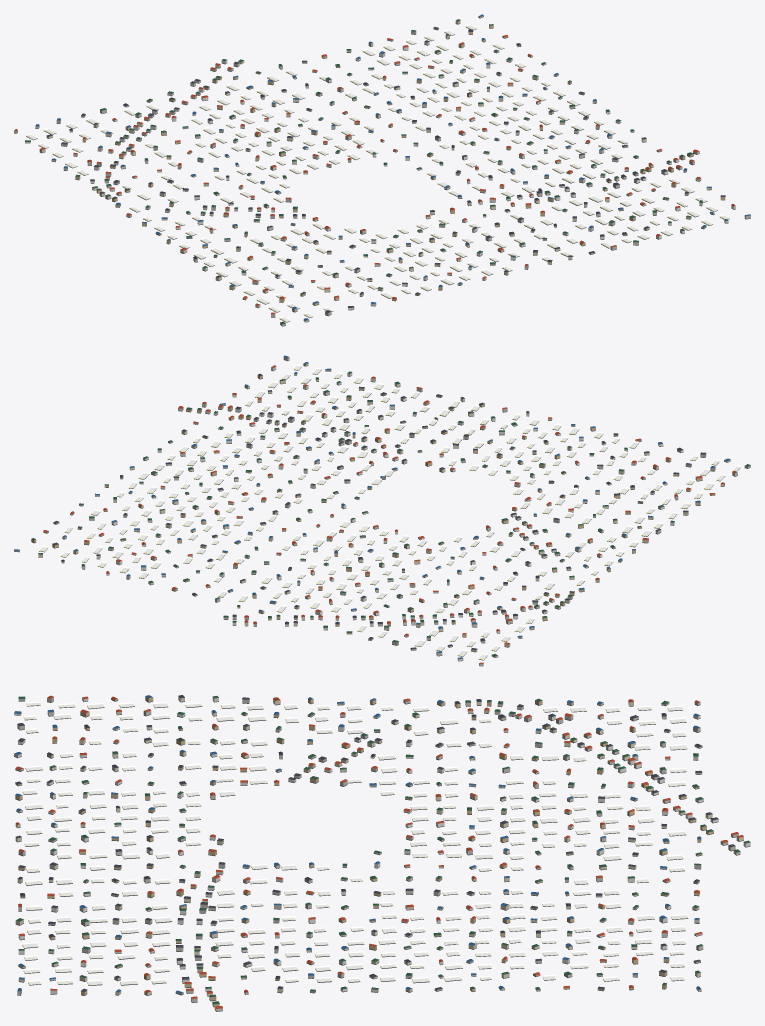
Rendered from buildings_T_W04_S07.glb.
3 renders of one model, top to bottom at view 1: azimuth 30°, elevation 25°; view 2: azimuth 150°, elevation 25°; view 3: azimuth 270°, elevation 25°, orthographic. The views are drawn at different scales.
Parts seen in each view (by area): view 1: T_W04_S07_roofs_agri_greenhouse_arch, T_W04_S07_slope_seating_foundations, T_W04_S07_walls_wall_dalat_cream_stucco, T_W04_S07_walls_wall_french_ochre_villa, T_W04_S07_walls_wall_pastel_sand_gray, T_W04_S07_walls_wall_modern_warm_white, T_W04_S07_roofs_roof_pine_green_hip, T_W04_S07_roofs_roof_terracotta_gable, T_W04_S07_roofs_roof_slate_French_villa_hip, T_W04_S07_roofs_roof_highland_blue_gable; view 2: T_W04_S07_roofs_agri_greenhouse_arch, T_W04_S07_slope_seating_foundations, T_W04_S07_walls_wall_french_ochre_villa, T_W04_S07_walls_wall_dalat_cream_stucco, T_W04_S07_walls_wall_pastel_sand_gray, T_W04_S07_walls_wall_modern_warm_white, T_W04_S07_roofs_roof_pine_green_hip, T_W04_S07_roofs_roof_terracotta_gable, T_W04_S07_roofs_roof_slate_French_villa_hip, T_W04_S07_roofs_roof_highland_blue_gable; view 3: T_W04_S07_roofs_agri_greenhouse_arch, T_W04_S07_slope_seating_foundations, T_W04_S07_walls_wall_dalat_cream_stucco, T_W04_S07_walls_wall_french_ochre_villa, T_W04_S07_walls_wall_modern_warm_white, T_W04_S07_walls_wall_pastel_sand_gray, T_W04_S07_roofs_roof_pine_green_hip, T_W04_S07_roofs_roof_terracotta_gable, T_W04_S07_roofs_roof_slate_French_villa_hip, T_W04_S07_roofs_roof_highland_blue_gable.
Boxes of the visible parts, bbox=[...] form: T_W04_S07_roofs_agri_greenhouse_arch: bbox=[26, 24, 729, 322]; T_W04_S07_slope_seating_foundations: bbox=[14, 16, 750, 326]; T_W04_S07_walls_wall_dalat_cream_stucco: bbox=[25, 20, 728, 296]; T_W04_S07_walls_wall_french_ochre_villa: bbox=[75, 25, 725, 305]; T_W04_S07_walls_wall_pastel_sand_gray: bbox=[14, 15, 750, 325]; T_W04_S07_walls_wall_modern_warm_white: bbox=[35, 39, 735, 321]; T_W04_S07_roofs_roof_pine_green_hip: bbox=[25, 19, 702, 324]; T_W04_S07_roofs_roof_terracotta_gable: bbox=[14, 35, 735, 314]; T_W04_S07_roofs_roof_slate_French_villa_hip: bbox=[46, 27, 725, 312]; T_W04_S07_roofs_roof_highland_blue_gable: bbox=[35, 14, 750, 320]; T_W04_S07_roofs_agri_greenhouse_arch: bbox=[39, 364, 740, 659]; T_W04_S07_slope_seating_foundations: bbox=[14, 359, 750, 666]; T_W04_S07_walls_wall_french_ochre_villa: bbox=[31, 370, 715, 637]; T_W04_S07_walls_wall_dalat_cream_stucco: bbox=[38, 363, 691, 657]; T_W04_S07_walls_wall_pastel_sand_gray: bbox=[14, 357, 750, 665]; T_W04_S07_walls_wall_modern_warm_white: bbox=[96, 366, 730, 660]; T_W04_S07_roofs_roof_pine_green_hip: bbox=[32, 371, 750, 656]; T_W04_S07_roofs_roof_terracotta_gable: bbox=[43, 365, 737, 664]; T_W04_S07_roofs_roof_slate_French_villa_hip: bbox=[52, 373, 705, 649]; T_W04_S07_roofs_roof_highland_blue_gable: bbox=[14, 355, 730, 659]; T_W04_S07_roofs_agri_greenhouse_arch: bbox=[22, 701, 688, 985]; T_W04_S07_slope_seating_foundations: bbox=[14, 699, 750, 1011]; T_W04_S07_walls_wall_dalat_cream_stucco: bbox=[15, 696, 743, 1011]; T_W04_S07_walls_wall_french_ochre_villa: bbox=[15, 697, 713, 1006]; T_W04_S07_walls_wall_modern_warm_white: bbox=[14, 697, 750, 996]; T_W04_S07_walls_wall_pastel_sand_gray: bbox=[15, 697, 738, 1002]; T_W04_S07_roofs_roof_pine_green_hip: bbox=[16, 695, 750, 1004]; T_W04_S07_roofs_roof_terracotta_gable: bbox=[15, 695, 743, 1008]; T_W04_S07_roofs_roof_slate_French_villa_hip: bbox=[15, 695, 735, 991]; T_W04_S07_roofs_roof_highland_blue_gable: bbox=[14, 695, 701, 993].
Bounding box in the file's own units: 1849 × 34.3 × 1873.
